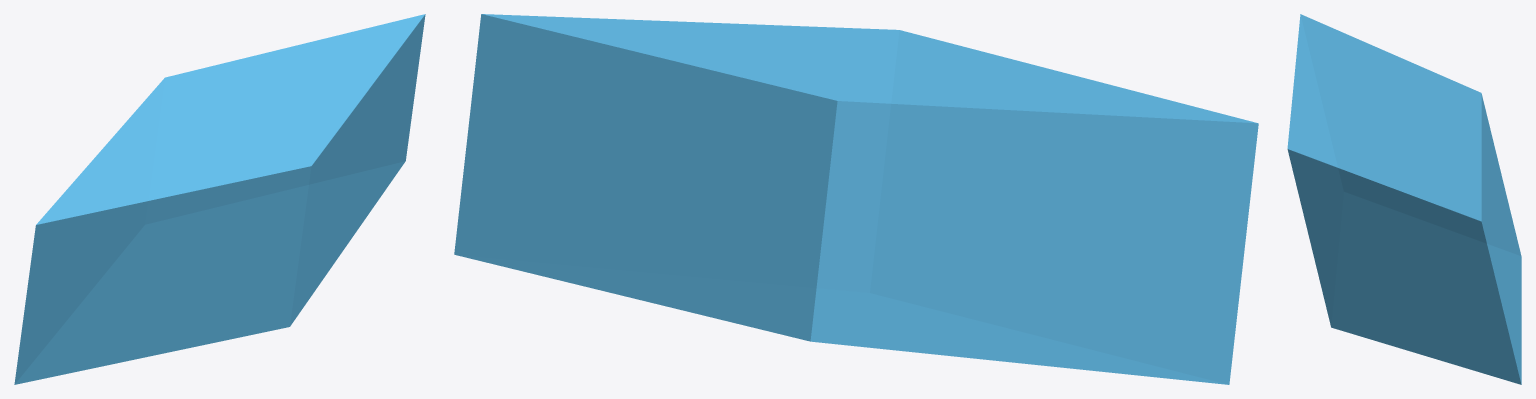
The model's file is Event_420107950_HBrechit_9.fbx.
3 renders of one model, left to right at view 1: azimuth 30°, elevation 25°; view 2: azimuth 150°, elevation 25°; view 3: azimuth 270°, elevation 25°, orthographic. The views are drawn at different scales.
Visible parts, largest first — view 1: Model; view 2: Model; view 3: Model.
Boxes of the visible parts, <box> form: Model: <box>14,14,425,384</box>; Model: <box>454,14,1258,384</box>; Model: <box>1287,14,1521,384</box>.
Bounding box in the file's own units: 1.22 × 0.5031 × 0.509.
